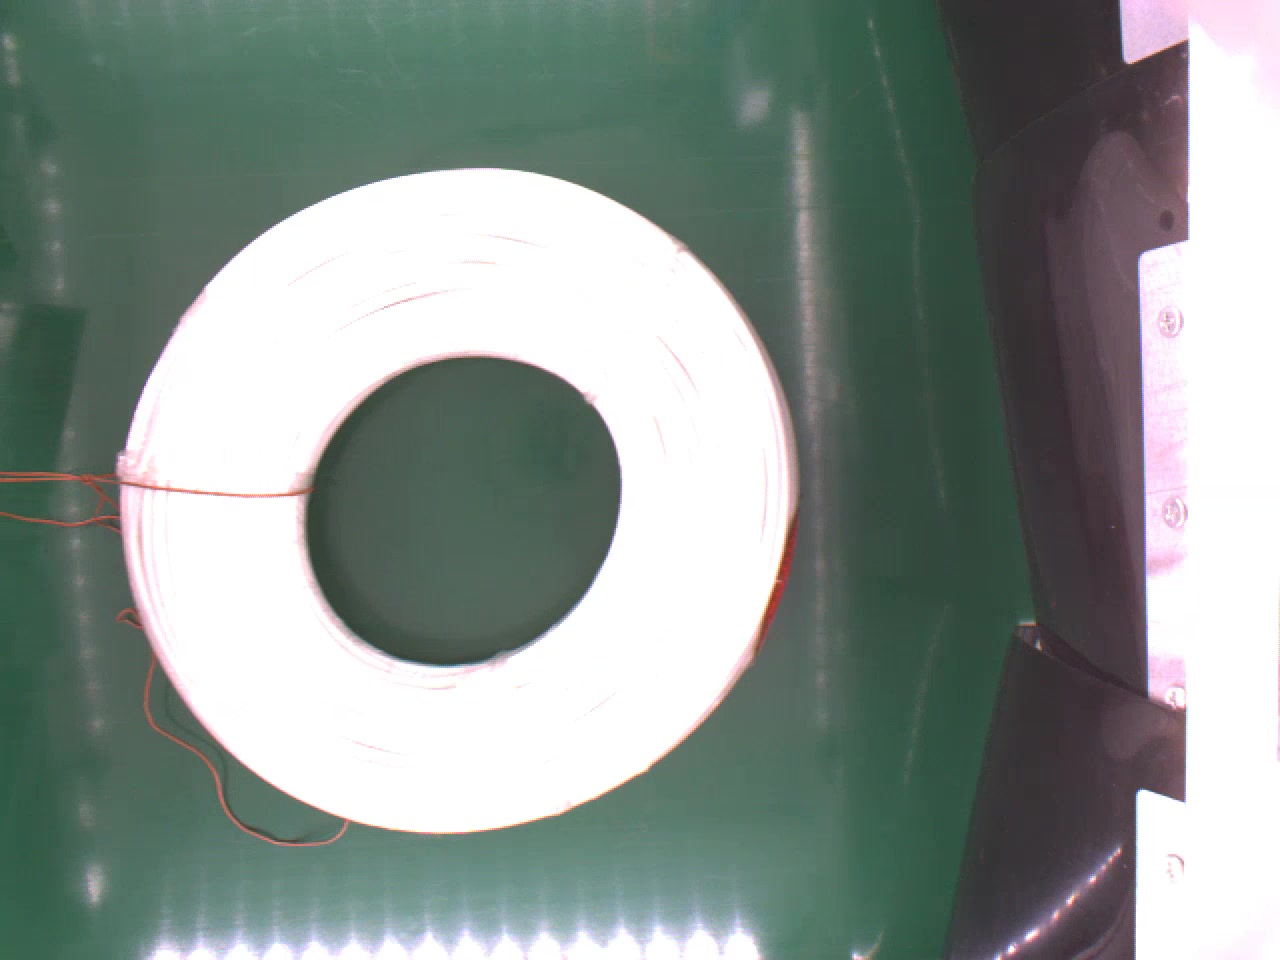white: (118, 166, 787, 838)
